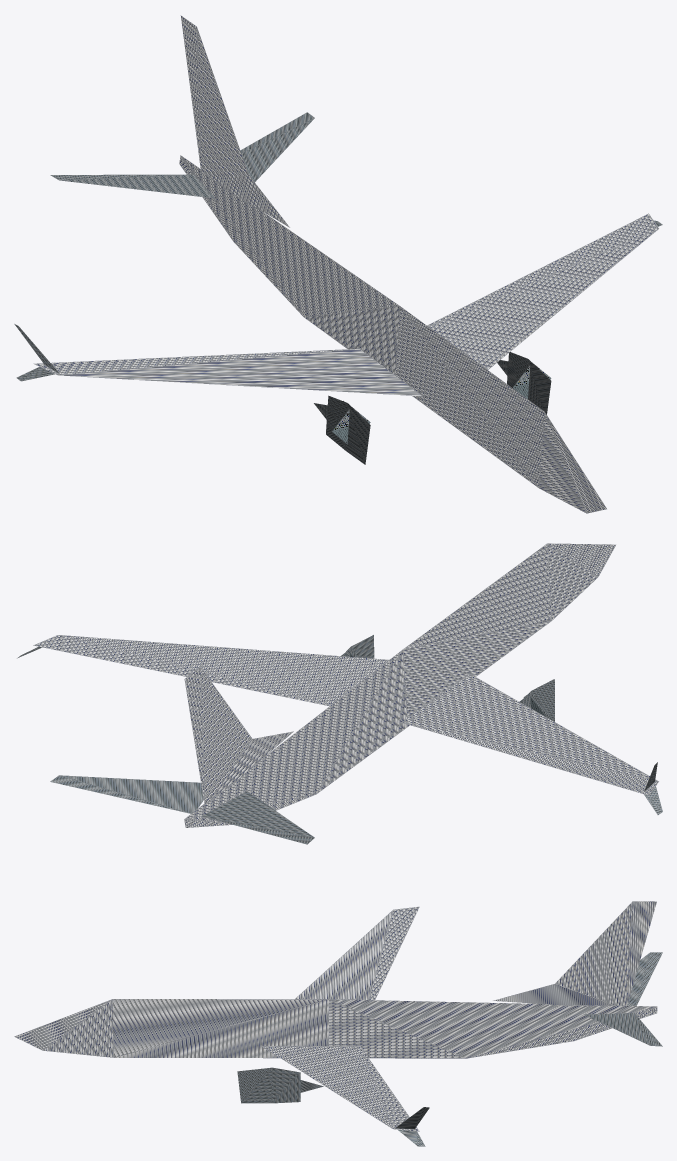
The model's file is AIA_737-9_MAX_MSFS_LOD1.gltf.
3 views of the same model, one above another, from view 1: azimuth 30°, elevation 25°; view 2: azimuth 150°, elevation 25°; view 3: azimuth 270°, elevation 25° (orthographic). The views are drawn at different scales.
Visible parts, largest first — view 1: node2, node1, node24_anim_custom_anim_REV_THRUST; view 2: node2, node1; view 3: node2, node1, node24_anim_custom_anim_REV_THRUST.
Boxes of the visible parts, left/top/right/bottom form: node2: left=33, top=15, right=658, bottom=513; node1: left=14, top=112, right=662, bottom=464; node24_anim_custom_anim_REV_THRUST: left=326, top=352, right=528, bottom=449; node2: left=33, top=543, right=658, bottom=827; node1: left=17, top=635, right=662, bottom=844; node2: left=14, top=901, right=657, bottom=1131; node1: left=237, top=952, right=662, bottom=1146; node24_anim_custom_anim_REV_THRUST: left=271, top=1067, right=300, bottom=1103.
Size of the model in its own units: 35.84 by 12 by 41.9.
